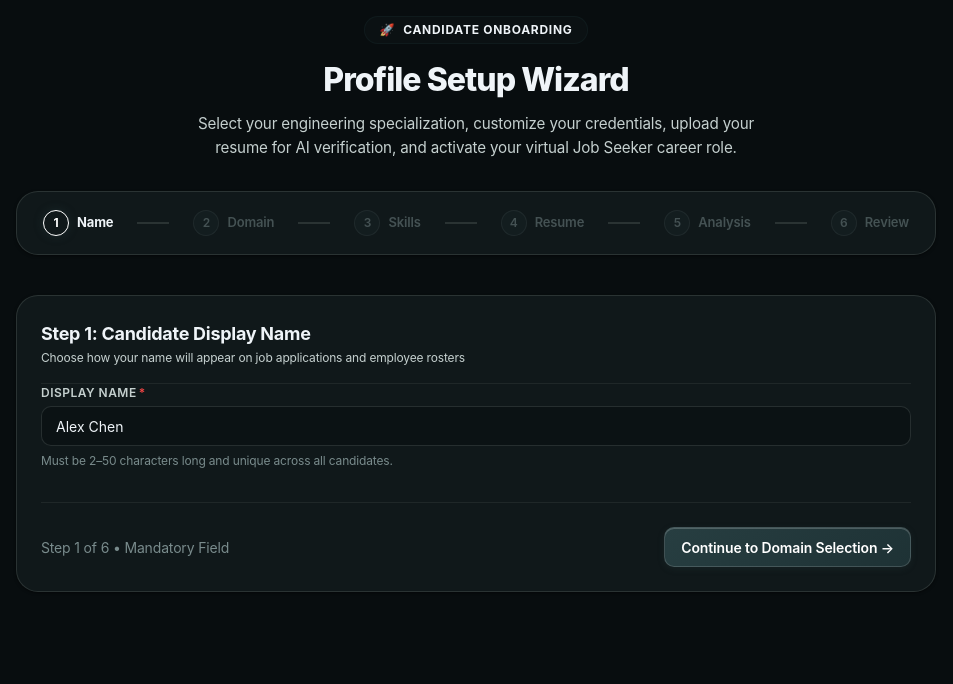
Test: ProfileSetupPage Wizard Suite › displays error banner if backend display name save fails
Replace the text in the field labelled "Display Name*" with "Elena Rostova" at (476, 426), box [41, 406, 911, 446]
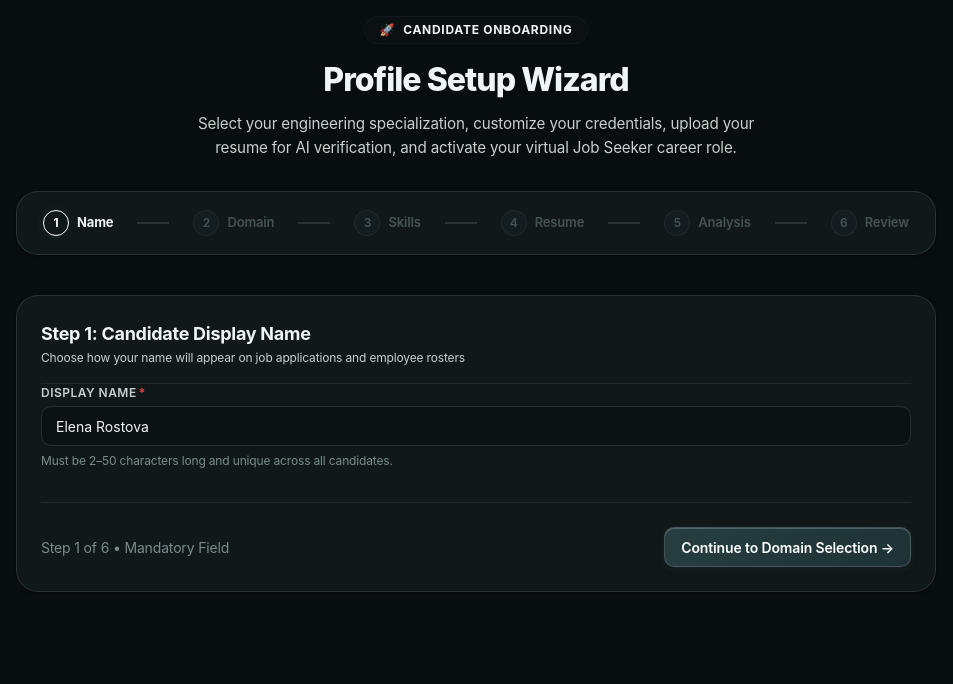
Click the button "Continue to Domain Selection →" at (788, 547), box [664, 527, 911, 567]
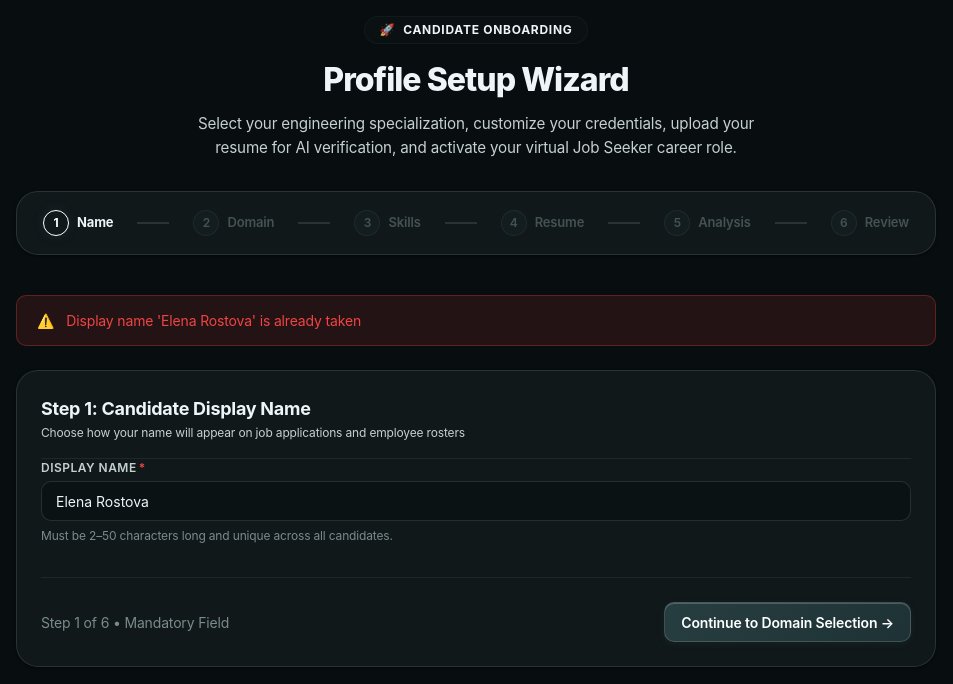
Result: the text "Display name 'Elena Rostova' is already taken" is shown at [66, 310, 361, 331]
